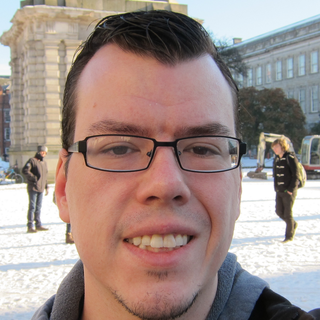eye: (97, 140, 142, 163), (181, 141, 224, 163)
